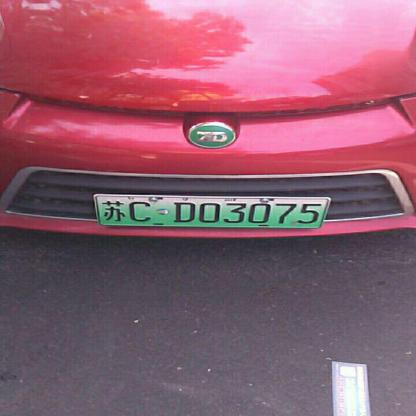lp: (94, 194, 331, 229)
